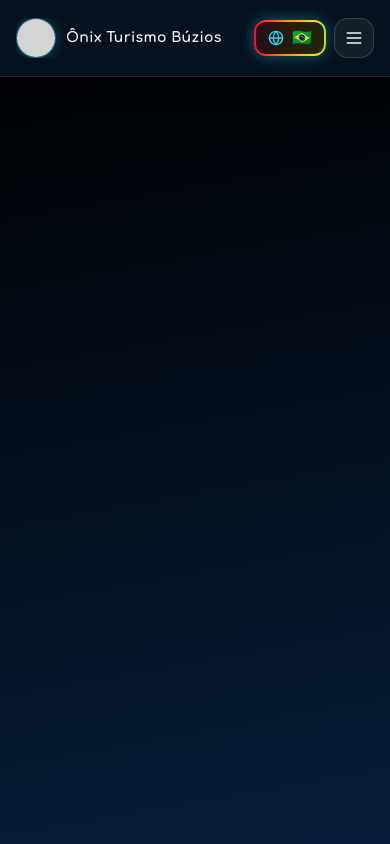
Test: cabeçalho público › marca passeios como seção ativa em uma página de detalhe e alterna o menu mobile
Click the button named "Abrir menu" at coordinates (354, 38), box [334,18,374,58]
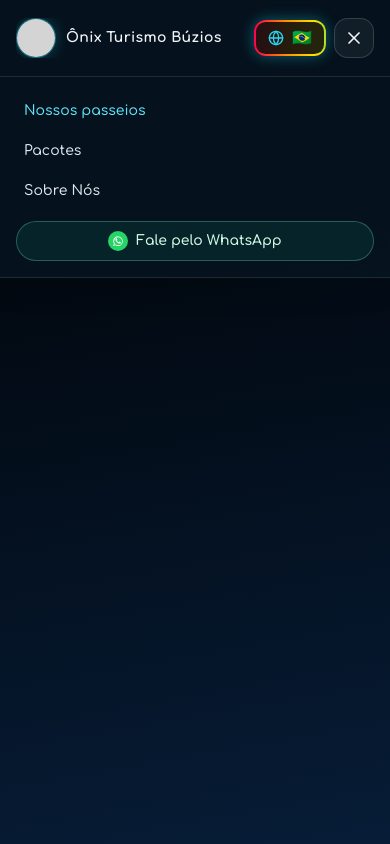
expect the button named "Fechar menu" is expanded: met, box [334,18,374,58]
